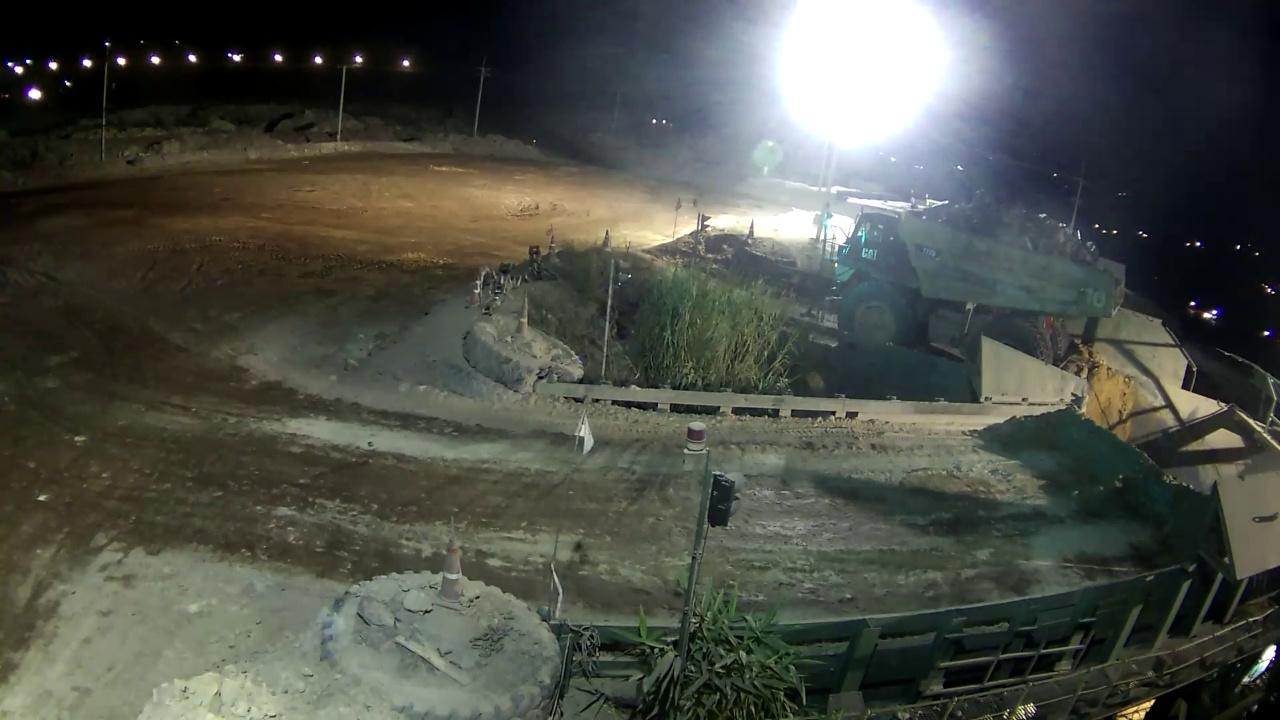full_load: (938, 186, 1104, 257)
mining_truck: (818, 163, 1132, 382)
tail_number: (1079, 278, 1116, 312)
